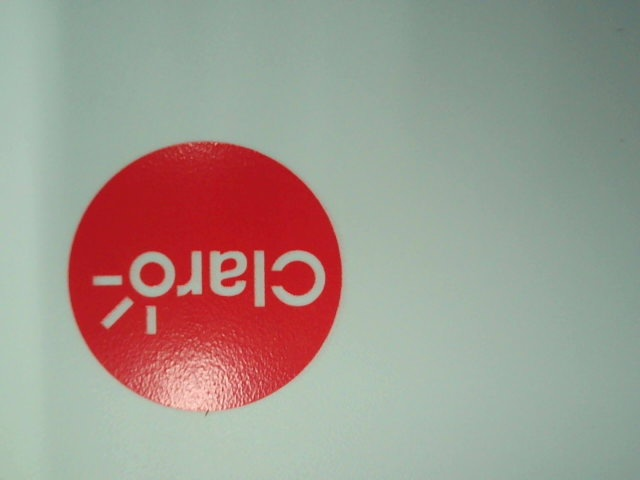BC_ClaorRed: (58, 139, 351, 418)
